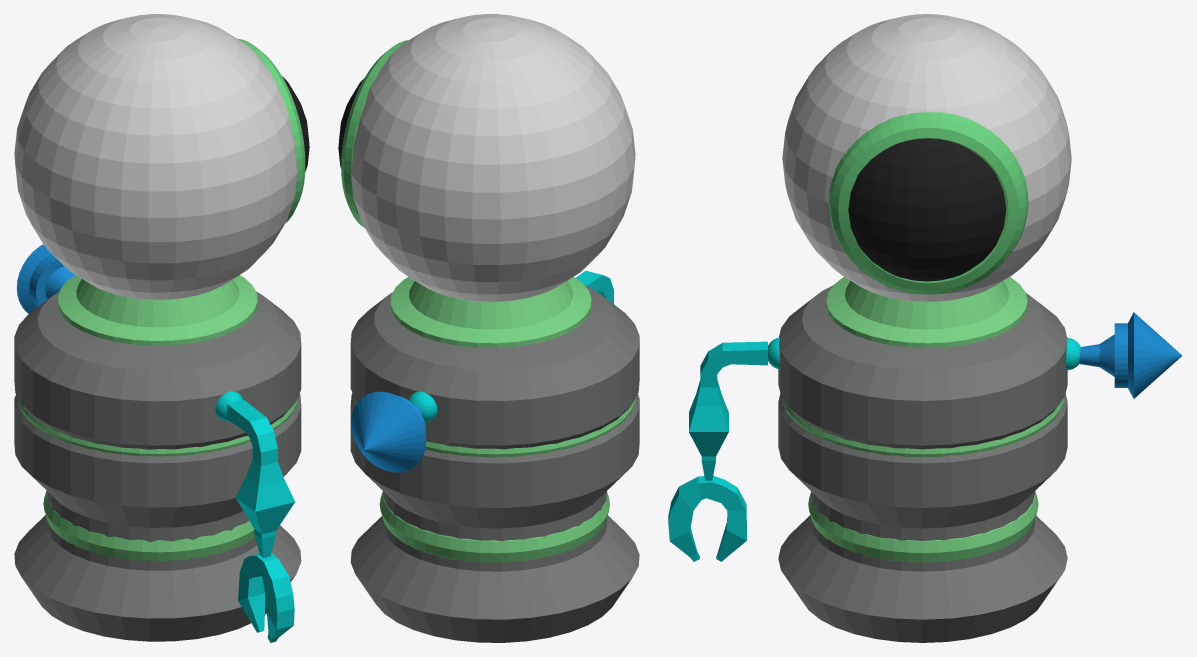
The model's file is robot.fbx.
3 views of the same model, side by side, from view 1: azimuth 30°, elevation 25°; view 2: azimuth 150°, elevation 25°; view 3: azimuth 270°, elevation 25° (orthographic).
Visible parts, largest first — view 1: Cylinder, Sphere, Cone, Cube, Torus.001, Cube.001, Cone.001, Torus.003, Torus, Sphere.001; view 2: Cylinder, Sphere, Cone, Torus.001, Cone.001, Torus, Torus.003, Cube; view 3: Cylinder, Sphere, Sphere.001, Torus, Cone, Torus.001, Cube, Cone.001, Cube.001, Torus.003.
Part boxes in pixels (<box>): Cylinder: <box>14,291,301,641</box>; Sphere: <box>14,14,297,300</box>; Cone: <box>58,275,257,345</box>; Cube: <box>215,391,294,558</box>; Torus.001: <box>43,490,254,561</box>; Cube.001: <box>238,553,294,642</box>; Cone.001: <box>16,244,75,313</box>; Torus.003: <box>17,397,298,456</box>; Torus: <box>238,39,305,222</box>; Sphere.001: <box>282,76,309,171</box>; Cylinder: <box>350,285,639,642</box>; Sphere: <box>351,14,635,302</box>; Cone: <box>390,277,591,347</box>; Torus.001: <box>379,491,609,562</box>; Cone.001: <box>351,391,426,472</box>; Torus: <box>341,40,408,227</box>; Torus.003: <box>353,396,636,457</box>; Cube: <box>408,271,614,422</box>; Cylinder: <box>778,285,1067,642</box>; Sphere: <box>782,14,1071,302</box>; Sphere.001: <box>848,138,1006,281</box>; Torus: <box>829,112,1028,294</box>; Cone: <box>826,277,1027,347</box>; Torus.001: <box>808,491,1038,562</box>; Cube: <box>689,337,1080,480</box>; Cone.001: <box>1079,312,1182,398</box>; Cube.001: <box>668,476,746,561</box>; Torus.003: <box>782,397,1064,456</box>.
Bounding box in the file's own units: 213 × 443 × 355.
